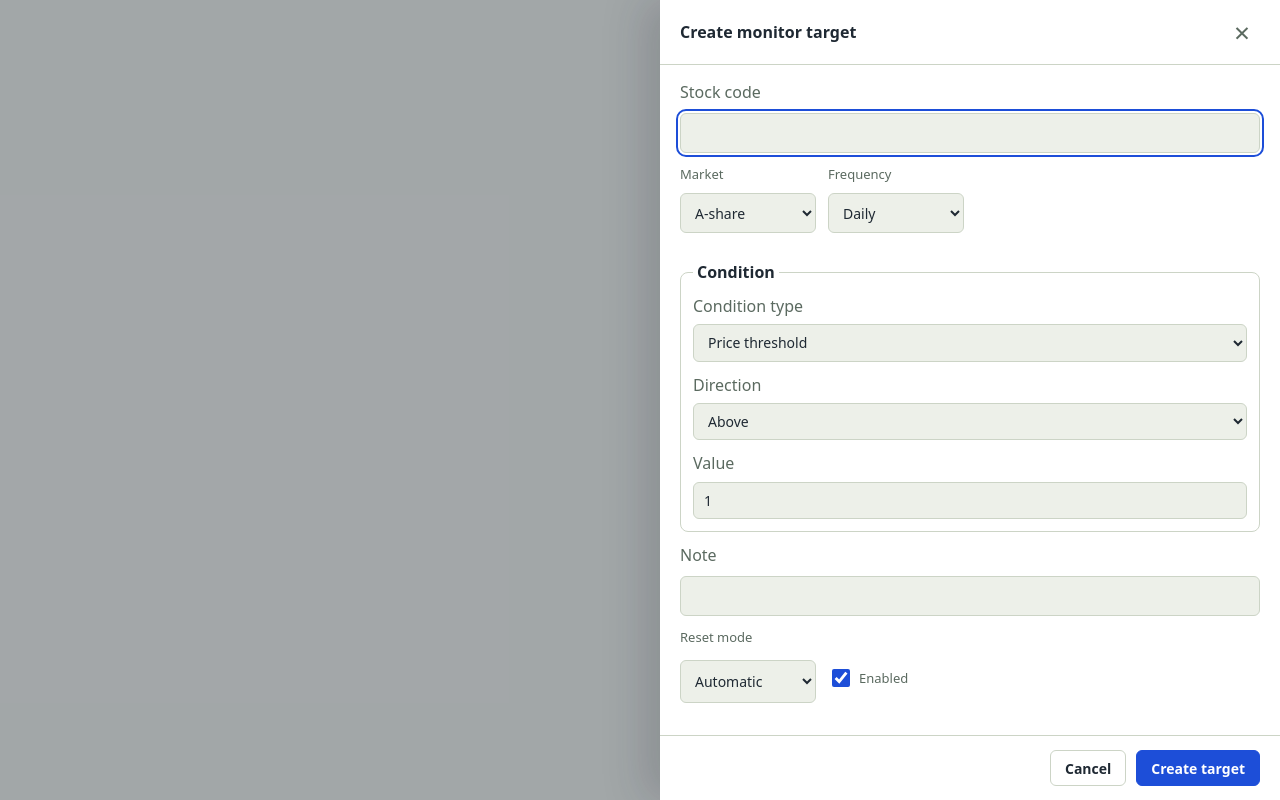
Test: MonitorTargetFormModal › does not close on Escape while saving
In the field labelled "Stock code": (970, 133) [680,113,1260,153], type "000001"
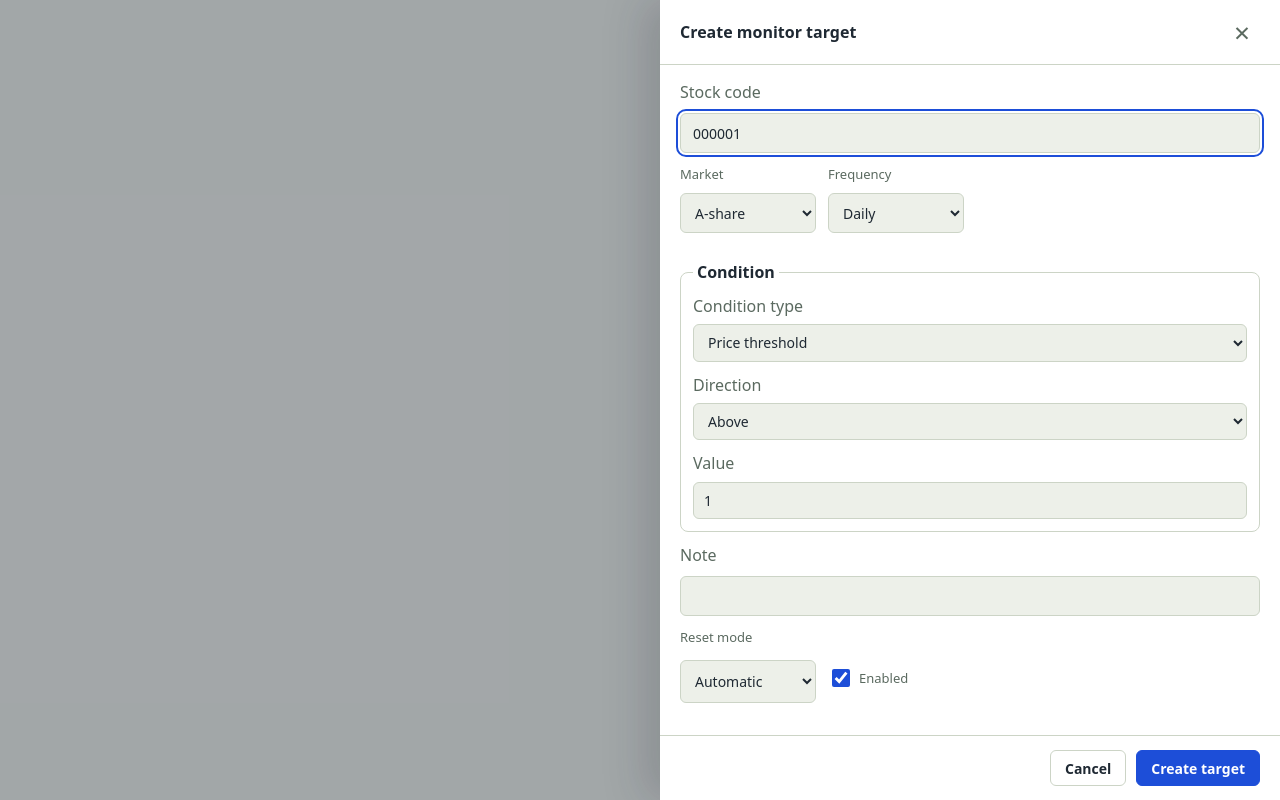
Click the button "Create target": (1198, 768) [1136,750,1260,786]
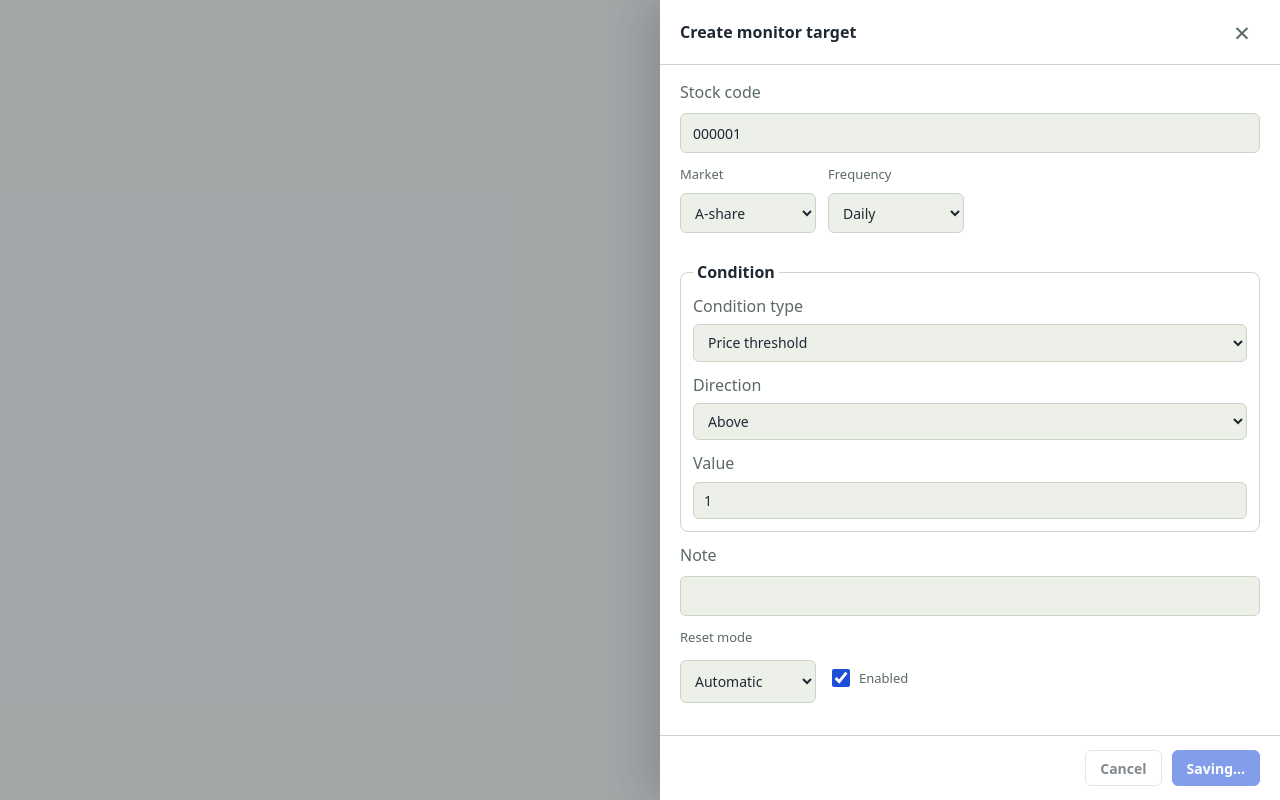
Check: the button "Saving…" is shown, box [1172,750,1260,786]
Press Escape
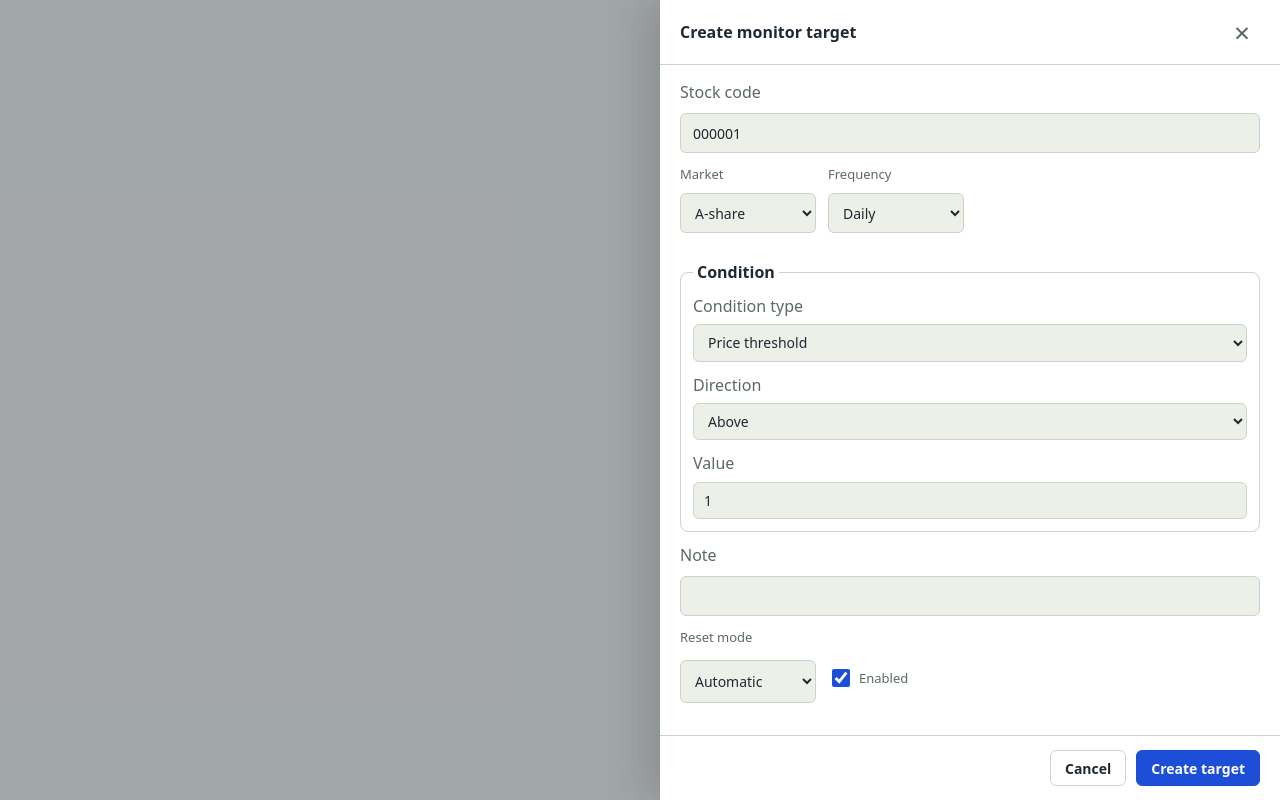
Check: the button "Create target" is enabled, box [1136,750,1260,786]
